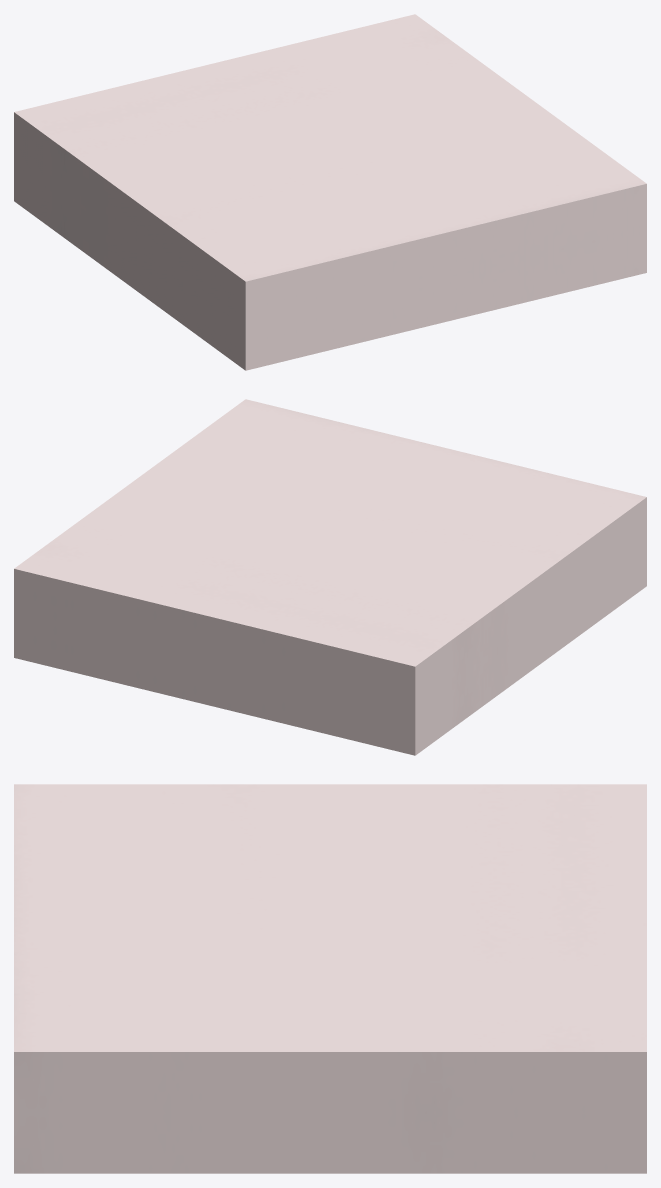
The model's file is stand_close.fbx.
3 views of the same model, one above another, from view 1: azimuth 30°, elevation 25°; view 2: azimuth 150°, elevation 25°; view 3: azimuth 270°, elevation 25° (orthographic). The views are drawn at different scales.
Parts seen in each view (by area): view 1: stand_up, stand_under; view 2: stand_up, stand_under; view 3: stand_up, stand_under.
Boxes of the visible parts, x1=… form: stand_up: x1=14, y1=14, x2=646, y2=326; stand_under: x1=14, y1=156, x2=646, y2=370; stand_up: x1=14, y1=399, x2=646, y2=711; stand_under: x1=14, y1=541, x2=646, y2=755; stand_up: x1=14, y1=784, x2=646, y2=1113; stand_under: x1=14, y1=1111, x2=646, y2=1173.
Bounding box in the file's own units: 59.68 × 12.66 × 59.68.
